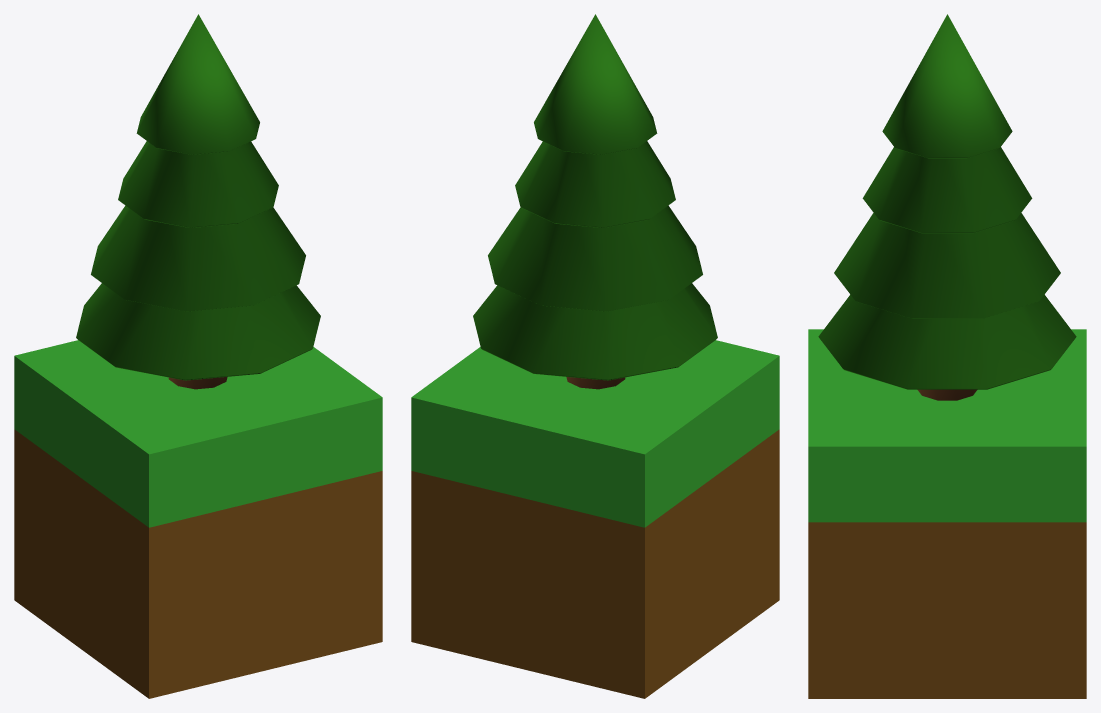
File: ForestPineTreeBlender.gltf
3 views of the same model, side by side, from view 1: azimuth 30°, elevation 25°; view 2: azimuth 150°, elevation 25°; view 3: azimuth 270°, elevation 25° (orthographic). The views are drawn at different scales.
Visible parts, largest first — view 1: ForestGround01, ForestTreePineTall; view 2: ForestGround01, ForestTreePineTall; view 3: ForestGround01, ForestTreePineTall.
Boxes of the visible parts, x1,y1,x2,y2 form: ForestGround01: (14,340,382,698); ForestTreePineTall: (76,14,320,389); ForestGround01: (411,340,779,698); ForestTreePineTall: (473,14,717,389); ForestGround01: (808,329,1086,698); ForestTreePineTall: (818,14,1076,400).
Size of the model in its own units: 2 by 4.97 by 2.
2 materials, 2 textured.
